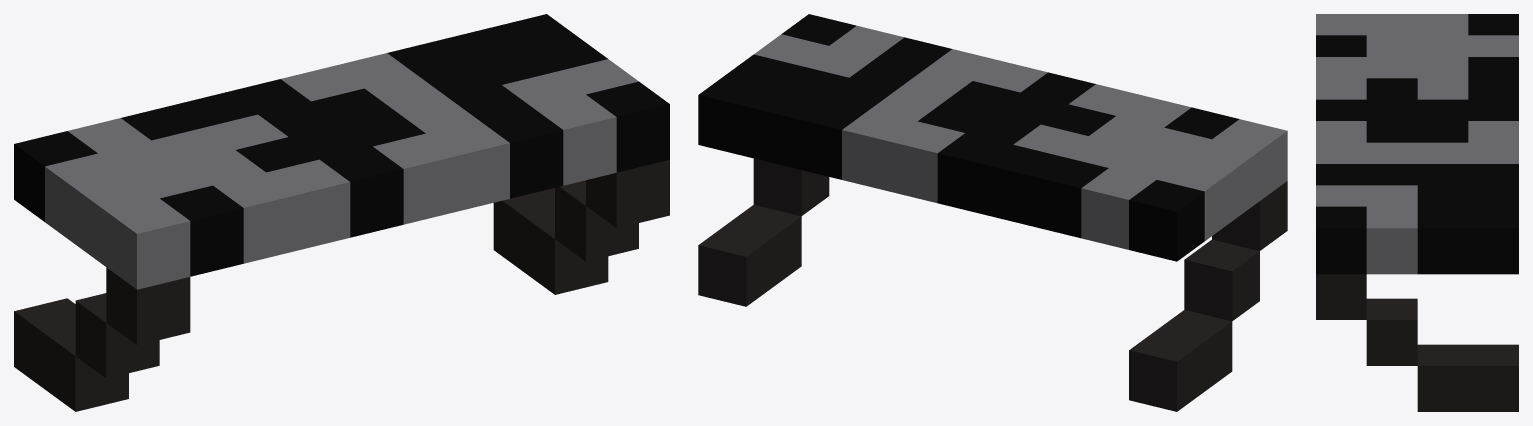
The model's file is tavern-32-shelf_empty.glb.
The picture shows the model from 3 angles, left to right: view 1: azimuth 30°, elevation 25°; view 2: azimuth 150°, elevation 25°; view 3: azimuth 270°, elevation 25°; orthographic projection. The views are drawn at different scales.
Parts seen in each view (by area): view 1: shelf_empty; view 2: shelf_empty; view 3: shelf_empty.
Part boxes in pixels (x1,y1,x2,y2): shelf_empty: (14, 14, 669, 411); shelf_empty: (698, 14, 1287, 411); shelf_empty: (1316, 14, 1518, 411).
Bounding box in the file's own units: 1 × 0.4 × 0.4.
1 material, 1 textured.
